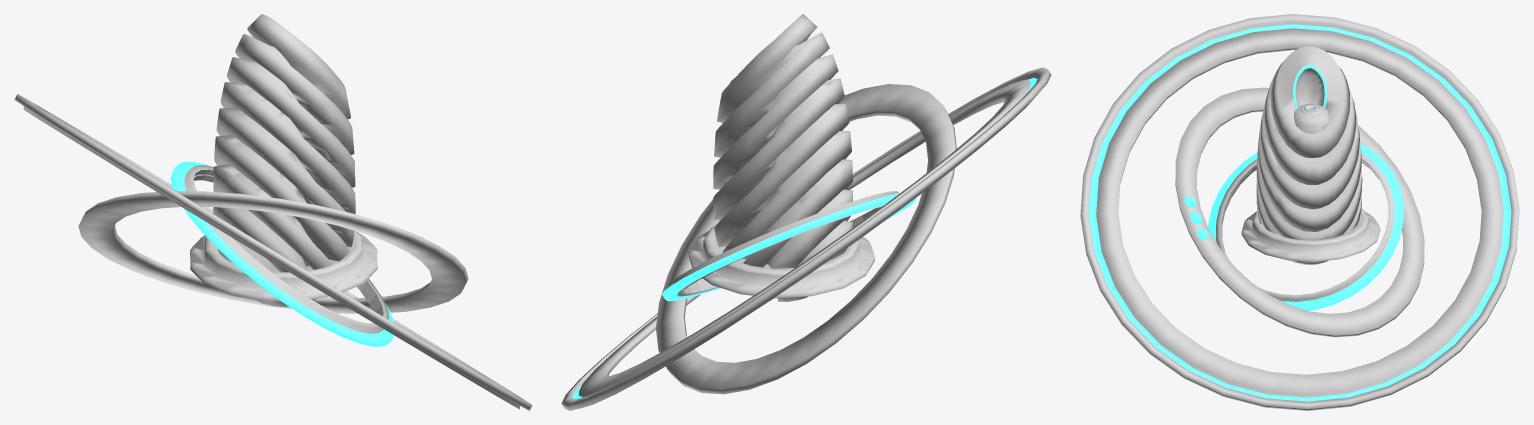
The model's file is m_Pedestal.fbx.
3 views of the same model, side by side, from view 1: azimuth 30°, elevation 25°; view 2: azimuth 150°, elevation 25°; view 3: azimuth 270°, elevation 25° (orthographic). The views are drawn at different scales.
Visible parts, largest first — view 1: Pedestal; view 2: Pedestal; view 3: Pedestal.
Boxes of the visible parts, left/top/right/bottom form: Pedestal: left=14, top=14, right=532, bottom=410; Pedestal: left=561, top=14, right=1051, bottom=410; Pedestal: left=1080, top=14, right=1519, bottom=410.
Bounding box in the file's own units: 292 × 275 × 372.
